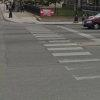Crosswalk: (28, 17, 100, 100)
